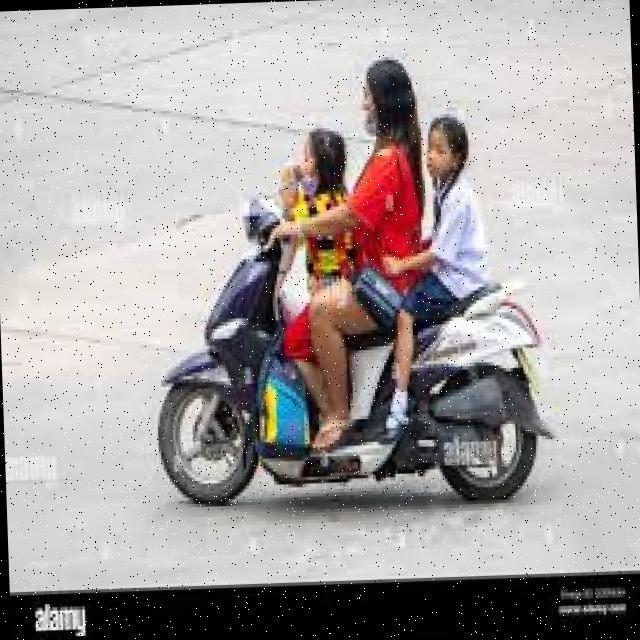No helmet: (338, 53, 428, 150)
Triple riding: (280, 61, 511, 432)
